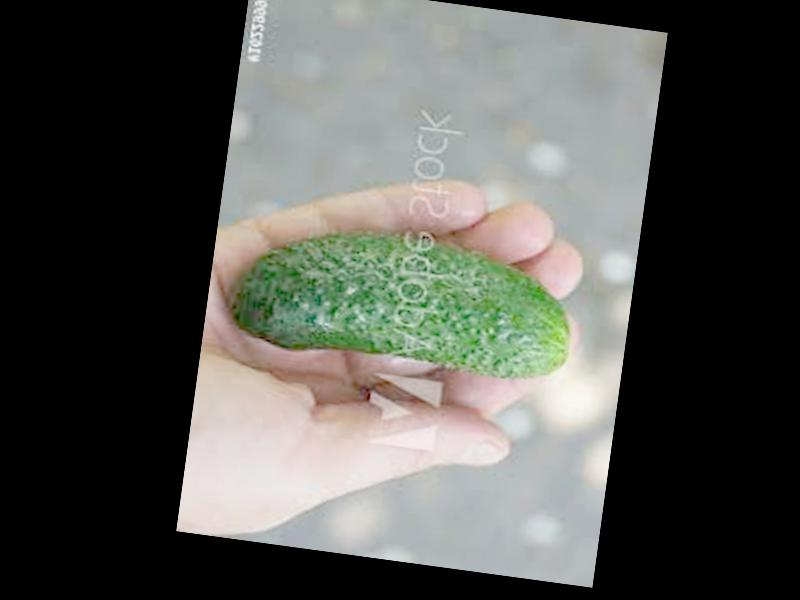Cucumber: (227, 211, 579, 385)
